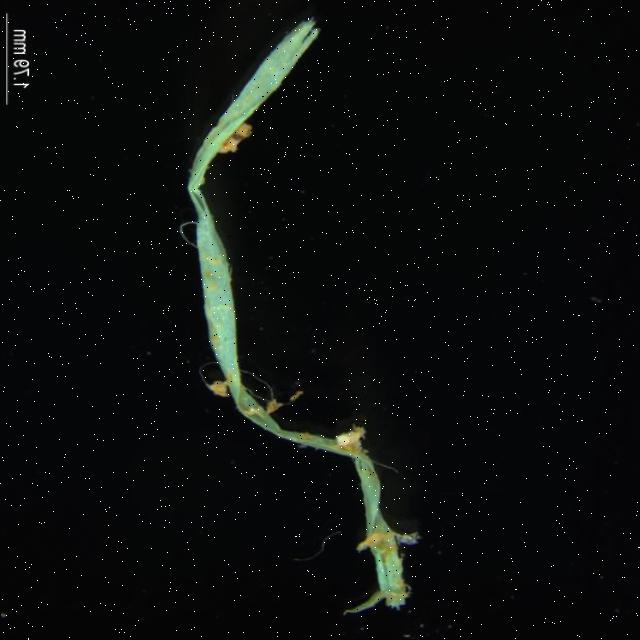Fibre: (172, 15, 426, 612)
